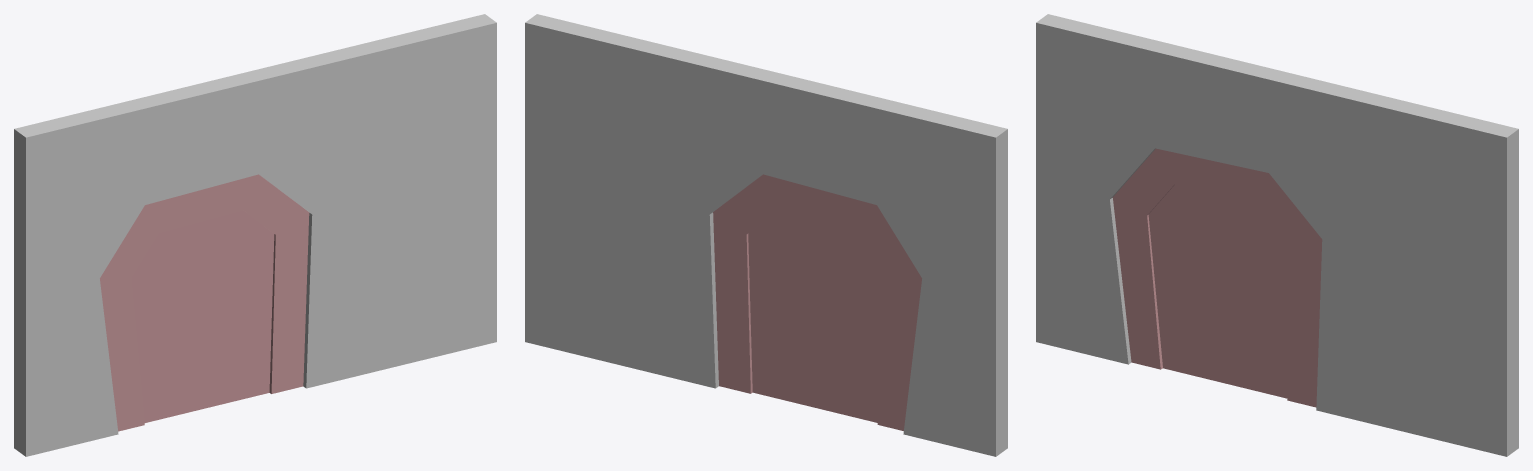
The model's file is DoorsRoomSlideGroup 1.fbx.
The picture shows the model from 3 angles, left to right: view 1: azimuth 30°, elevation 25°; view 2: azimuth 150°, elevation 25°; view 3: azimuth 330°, elevation 25°; orthographic projection.
Parts seen in each view (by area): view 1: Plane, SlidingDoor; view 2: Plane, SlidingDoor; view 3: Plane, SlidingDoor.
Part boxes in pixels (x1,y1,x2,y2): Plane: [14, 14, 496, 456]; SlidingDoor: [100, 174, 309, 431]; Plane: [525, 14, 1007, 456]; SlidingDoor: [713, 174, 921, 430]; Plane: [1036, 14, 1518, 456]; SlidingDoor: [1112, 148, 1322, 407].
Size of the model in its own units: 15.44 by 10 by 0.679.
